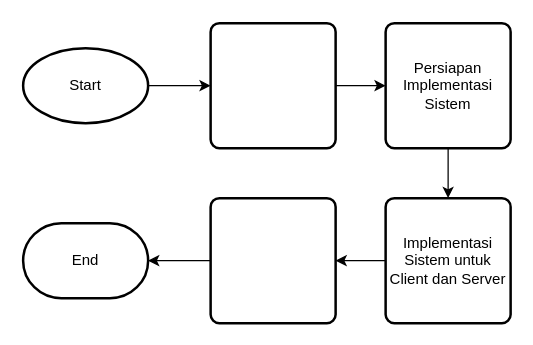
Some shapes in this 533 by 345 pixel diagram are drawn without their labels. Here are the shapes that lost their labels. From the top down, the box of each, then its label:
(209, 21, 336, 149): Perancangan dan Definisi Sistem
(209, 196, 336, 324): Dokumentasi
